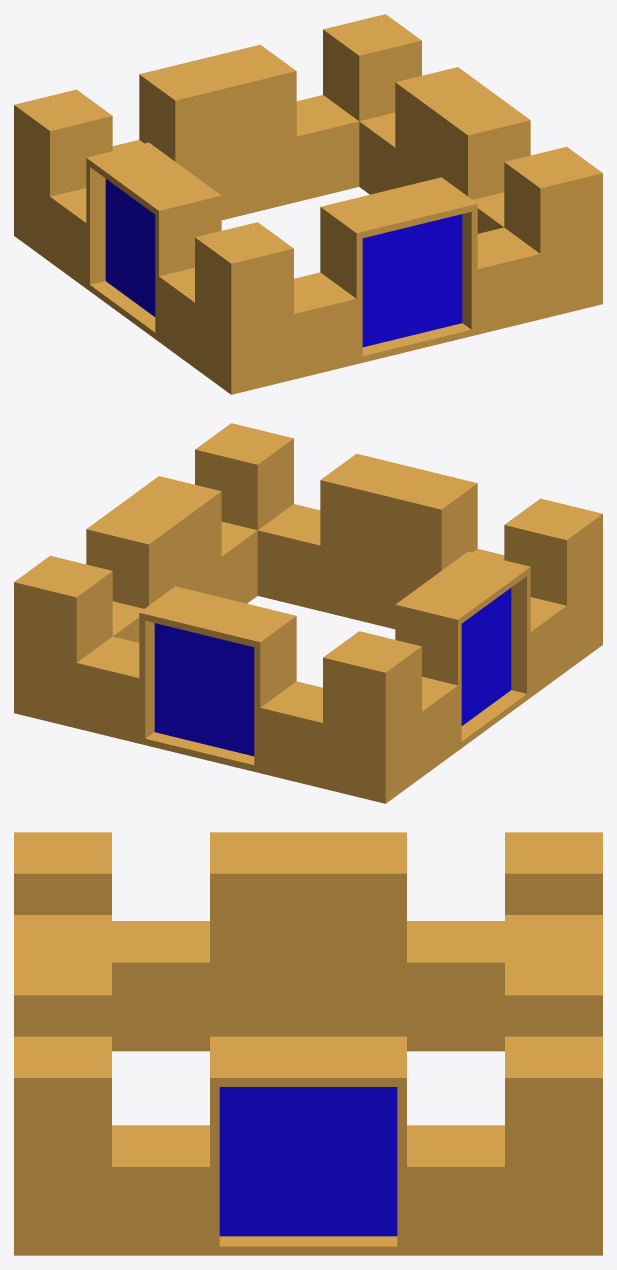
File: leader-crown.FBX
The picture shows the model from 3 angles, top to bottom: view 1: azimuth 30°, elevation 25°; view 2: azimuth 150°, elevation 25°; view 3: azimuth 270°, elevation 25°; orthographic projection. The views are drawn at different scales.
Parts seen in each view (by area): view 1: Box001; view 2: Box001; view 3: Box001.
Part boxes in pixels (<box>): Box001: <box>14,14,602,394</box>; Box001: <box>14,423,602,803</box>; Box001: <box>14,832,602,1255</box>.
Bounding box in the file's own units: 89.04 × 30 × 90.17.
